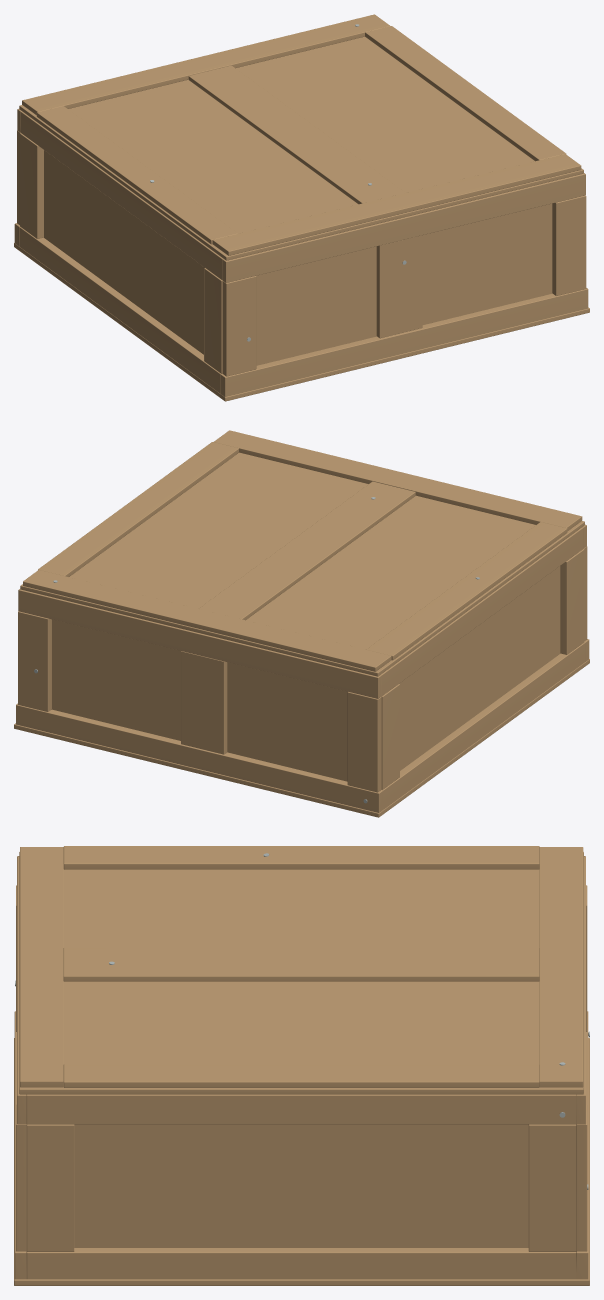
The model's file is crate_plywood_a04.glb.
3 views of the same model, one above another, from view 1: azimuth 30°, elevation 25°; view 2: azimuth 150°, elevation 25°; view 3: azimuth 270°, elevation 25° (orthographic). The views are drawn at different scales.
Bounding box in the file's own units: 1.22 × 0.4723 × 1.22.
